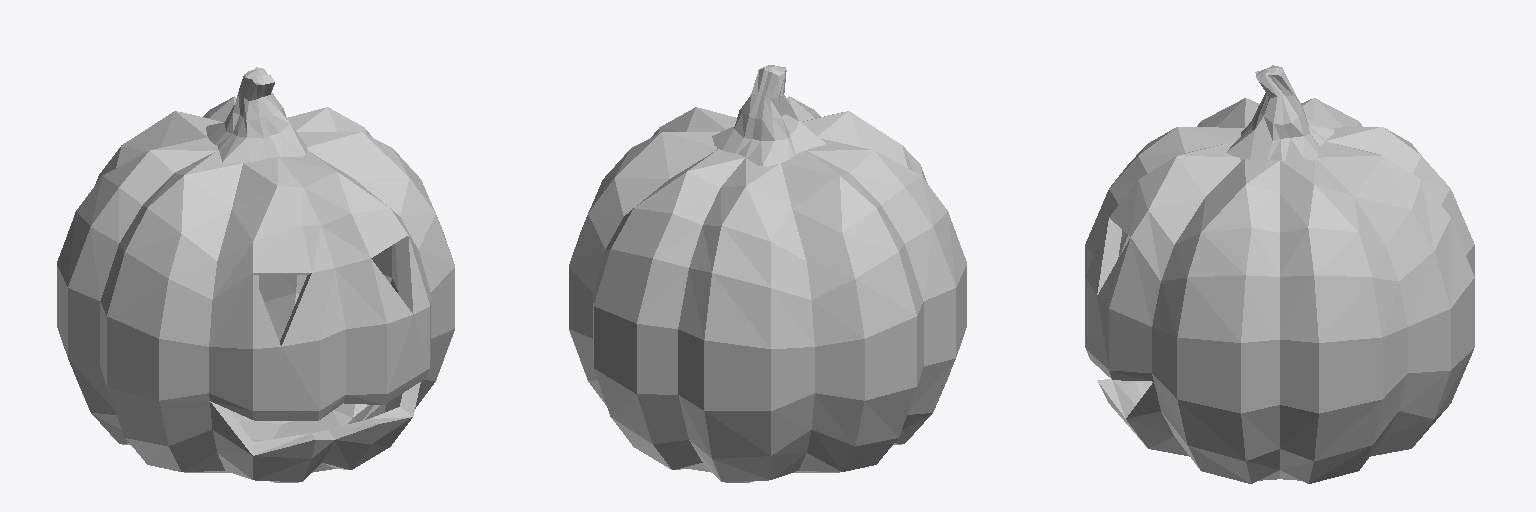
File: pumpkin_basic.sgm.obj
3 views of the same model, side by side, from view 1: azimuth 30°, elevation 25°; view 2: azimuth 150°, elevation 25°; view 3: azimuth 270°, elevation 25° (orthographic).
Size of the model in its own units: 0.4734 by 0.5024 by 0.4734.